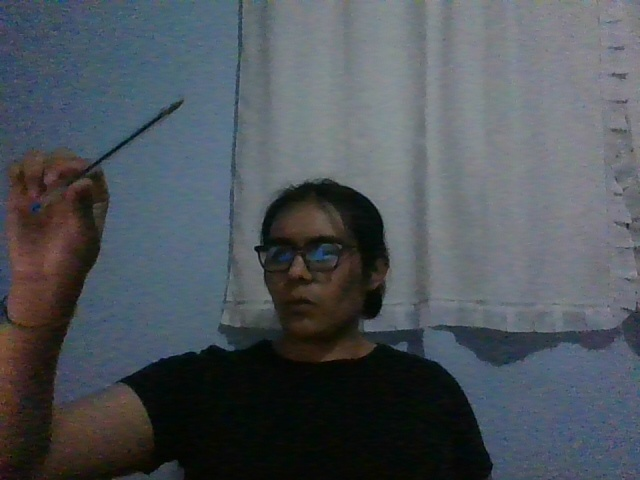pluma: (31, 97, 186, 213)
